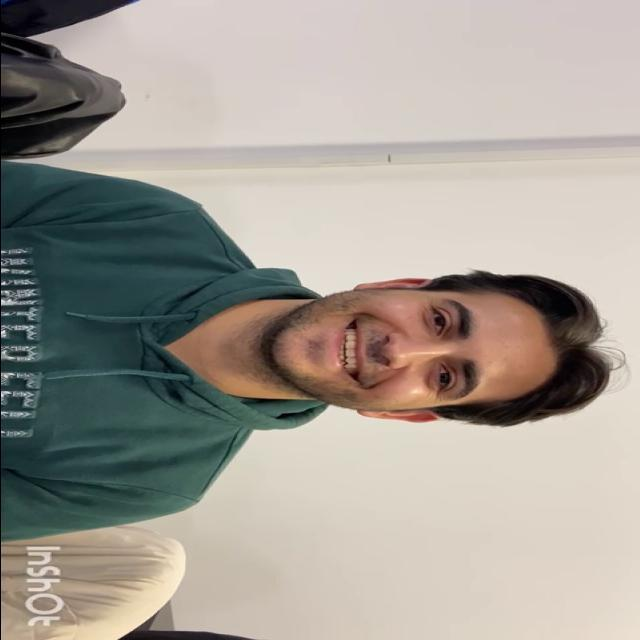happy: (262, 287, 558, 413)
